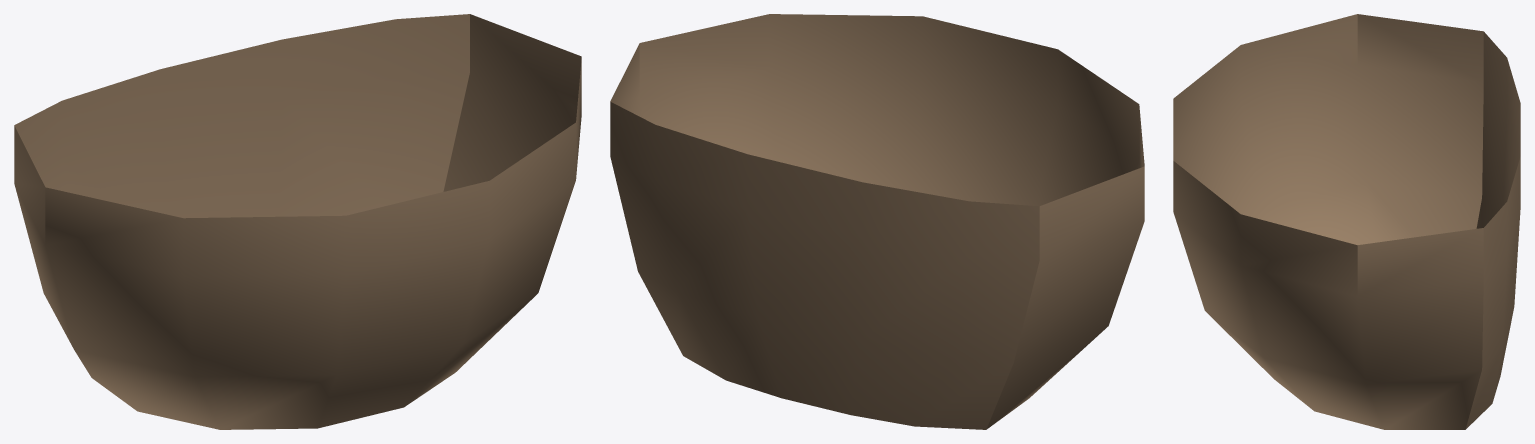
File: CharBeard.fbx
3 renders of one model, left to right at view 1: azimuth 30°, elevation 25°; view 2: azimuth 150°, elevation 25°; view 3: azimuth 270°, elevation 25°, orthographic. The views are drawn at different scales.
Visible parts, largest first — view 1: CharBeard; view 2: CharBeard; view 3: CharBeard.
Boxes of the visible parts, x1=… form: CharBeard: x1=14, y1=14, x2=581, y2=429; CharBeard: x1=610, y1=14, x2=1144, y2=429; CharBeard: x1=1173, y1=14, x2=1520, y2=429.
Bounding box in the file's own units: 0.3864 × 0.18 × 0.2453.
